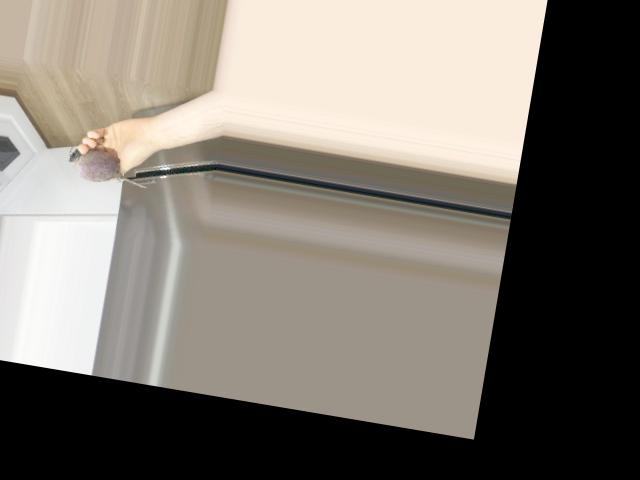beet: (64, 144, 150, 190)
